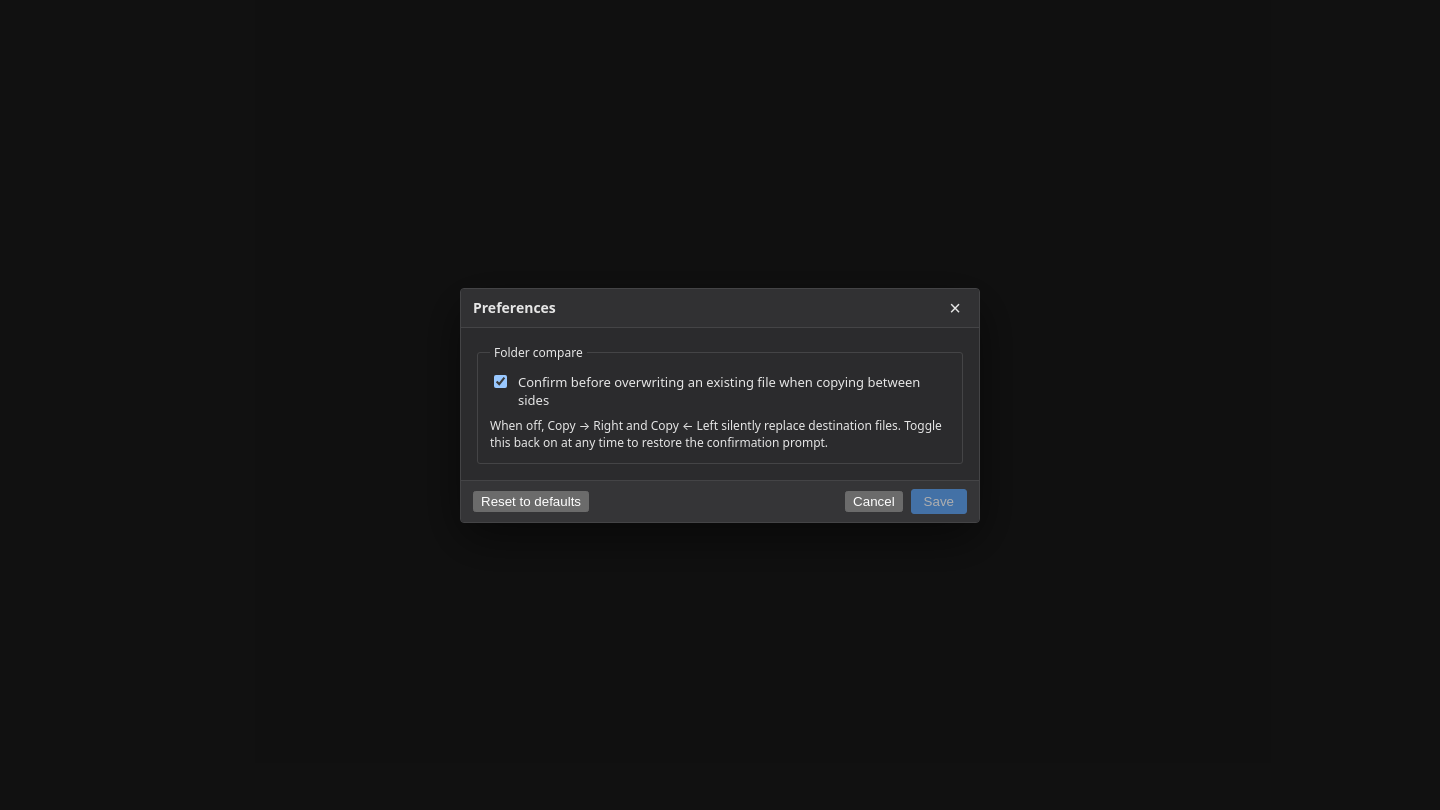
Test: <PreferencesDialog /> › disables Save until the draft differs from the value
This screenshot has width=1440, height=810.
Expected: the button "Save" is disabled, [911,488,967,514]
What coordinates should you click on to do the following:
click the checkbox
I would click on:
 (500, 381)
Its box is [494,374,507,388].
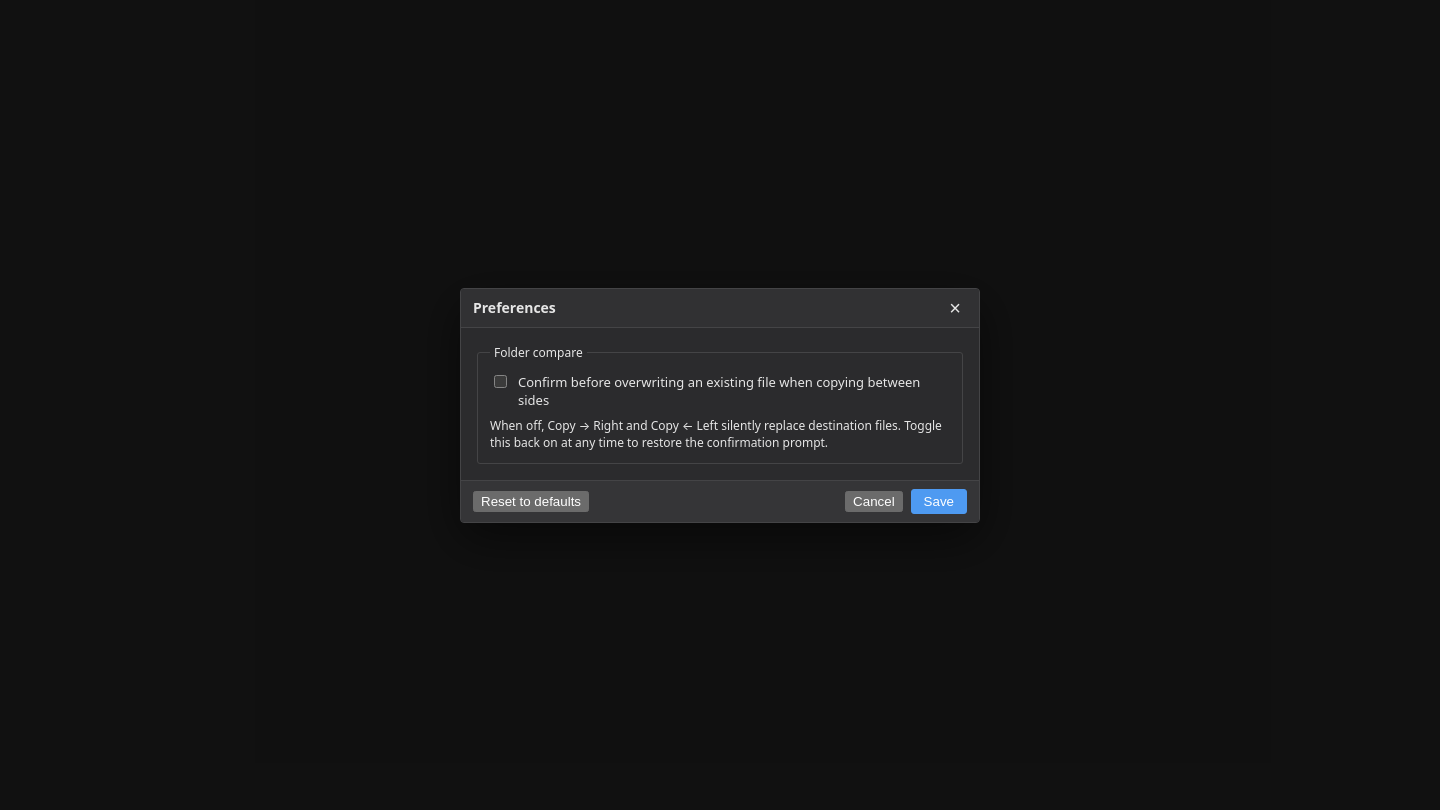
Result: the button "Save" is enabled at [911,488,967,514]
